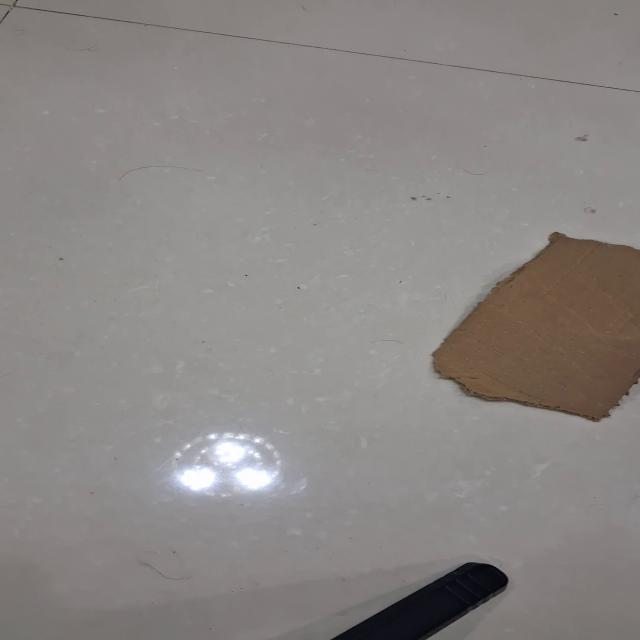paper: (2, 1, 638, 639), (430, 231, 638, 422)
